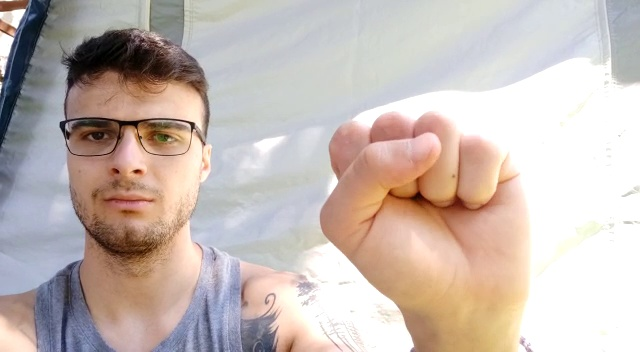Fist: (315, 103, 541, 319)
